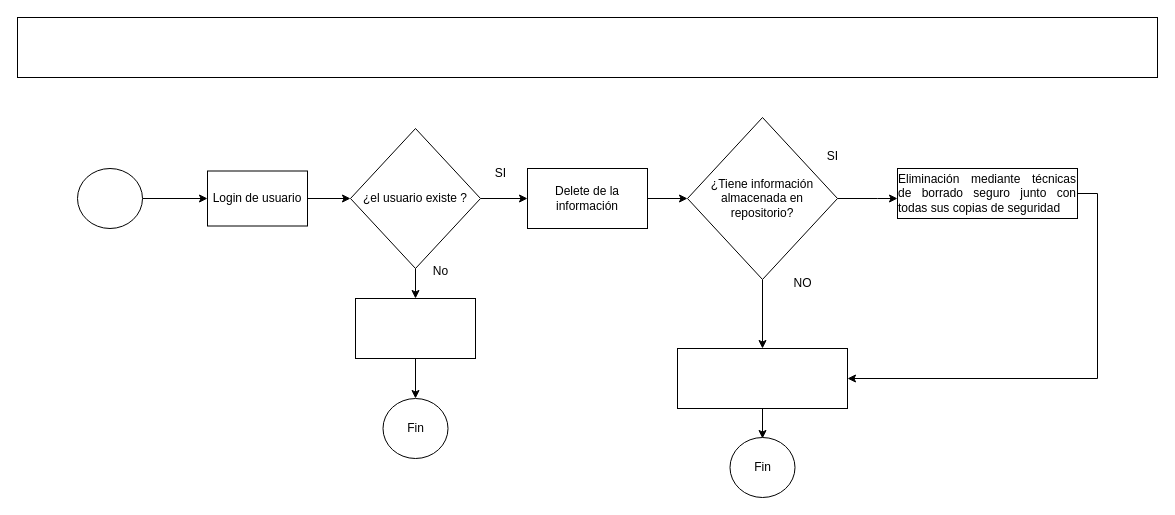
This 1175x515 diagram has some shape labels left out. The shapes that lost their labels are listed below. From the top down, each one's box as (x1, y1, x2, y2) in pixels, then its label:
(16, 16, 1158, 78): Borrado de un registro de un usuario
(76, 168, 142, 228): Inicio
(354, 298, 476, 358): Respuesta de error
(676, 348, 848, 408): Notificación de actualización completado
